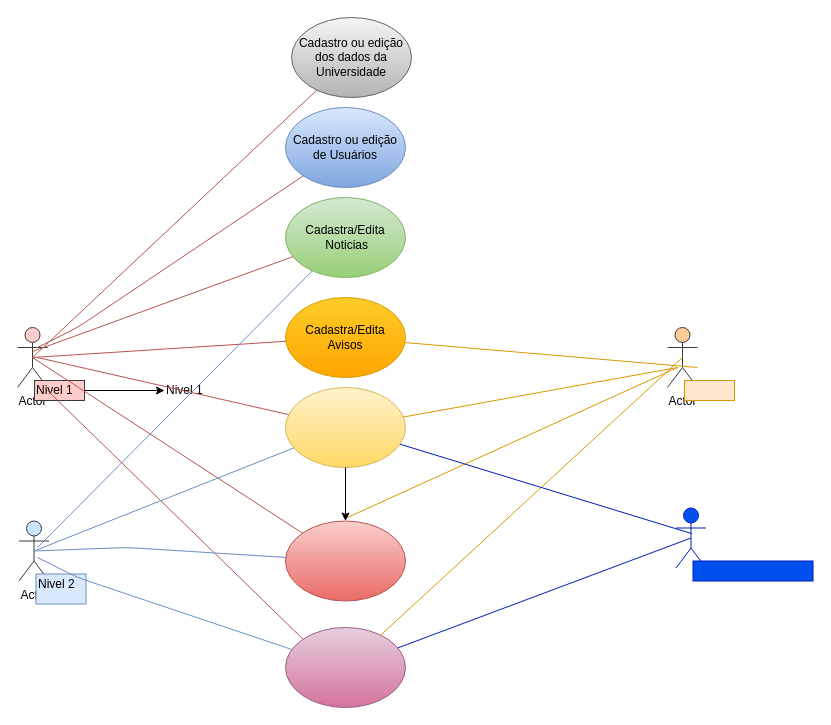
The diagram is 831 pixels wide and 725 high, and some of its shapes have lost their labels. Here are the shapes that lost their labels. From the top down, the box of each, then its label:
(684, 380, 734, 400): Nivel 3
(284, 386, 406, 468): Cadastra/Edita Anúncios
(284, 520, 406, 601): Moderação de Anúncios
(692, 560, 813, 581): Nivel 4/VISITANTE
(284, 626, 406, 708): Acessa todo Mural
